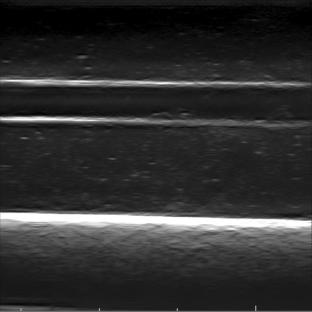vessel: (4, 79, 311, 128)
